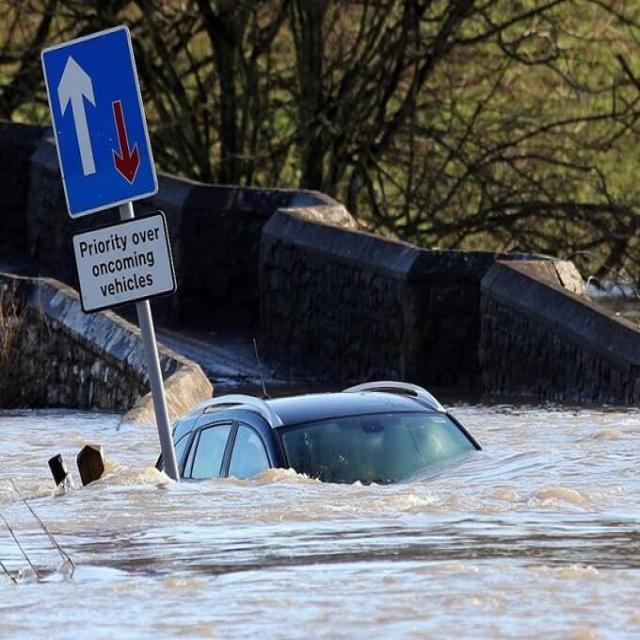water: (1, 406, 639, 637)
